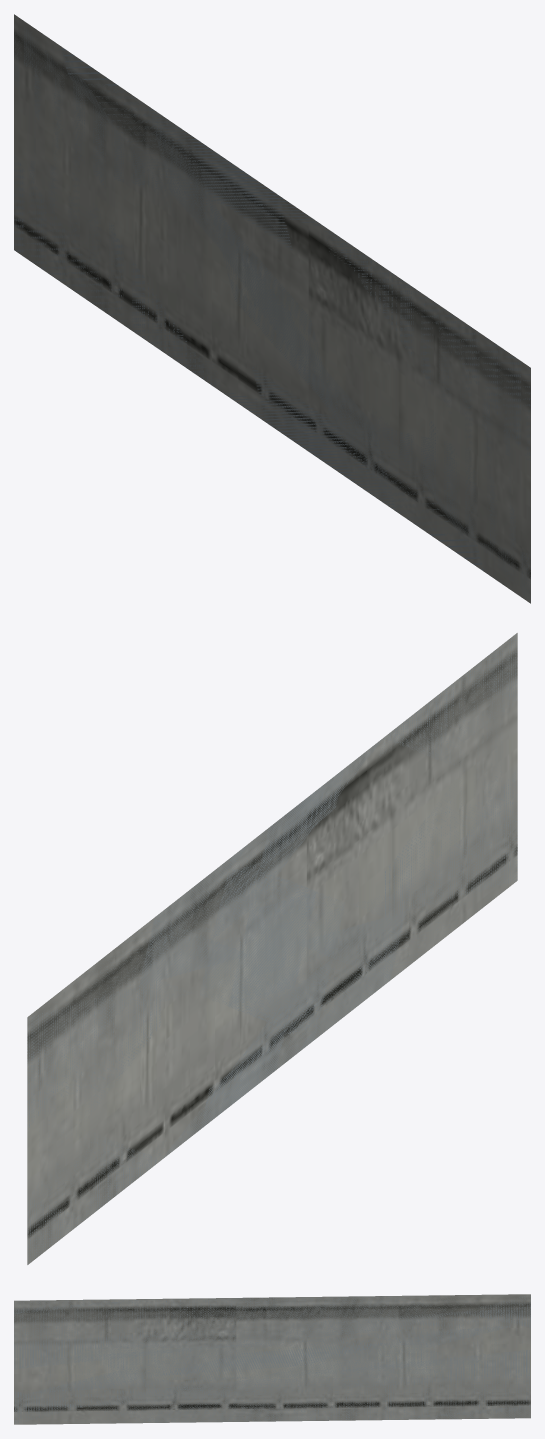
The model's file is 人民英雄纪念碑18.dae.
3 views of the same model, one above another, from view 1: azimuth 30°, elevation 25°; view 2: azimuth 150°, elevation 25°; view 3: azimuth 270°, elevation 25° (orthographic). The views are drawn at different scales.
Visible parts, largest first — view 1: SketchUp; view 2: SketchUp; view 3: SketchUp.
Part boxes in pixels (x1,y1,x2,y2): SketchUp: [14, 14, 530, 603]; SketchUp: [27, 633, 517, 1264]; SketchUp: [14, 1294, 530, 1424].
Bounding box in the file's own units: 7.94 × 268 × 70.87.
